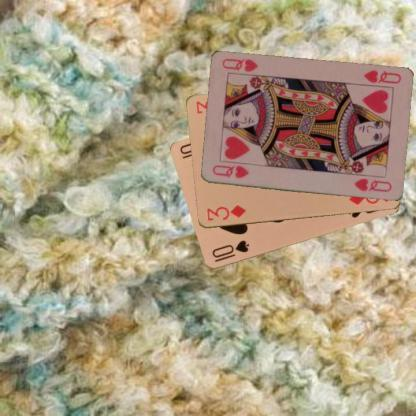10s: (209, 238, 251, 264)
3d: (204, 202, 247, 223)
Qh: (360, 68, 402, 86), (209, 162, 250, 180)
